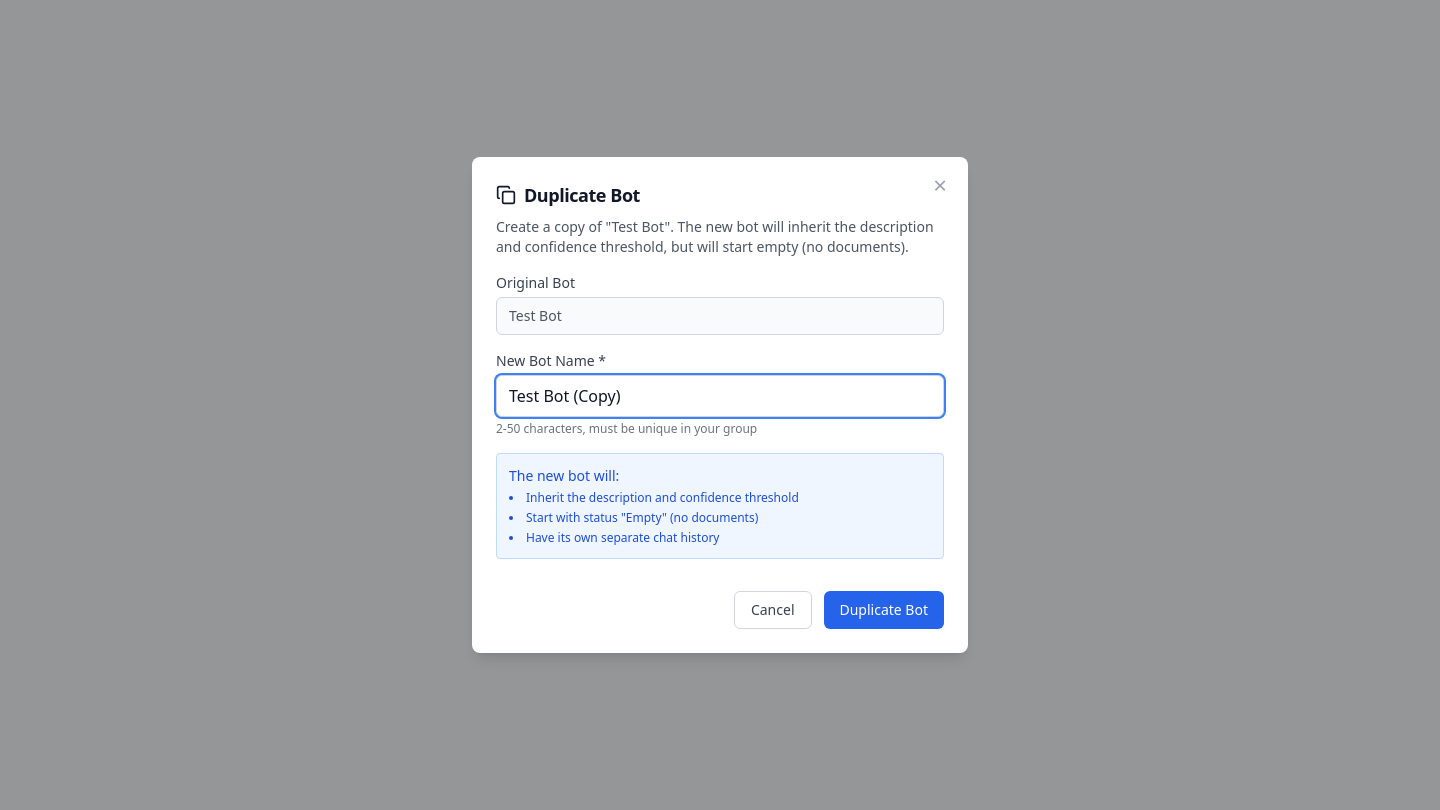
DuplicateBotModal › shows error message when duplication fails
Click the button "Duplicate Bot". click: (884, 610)
box: [824,591,944,629]
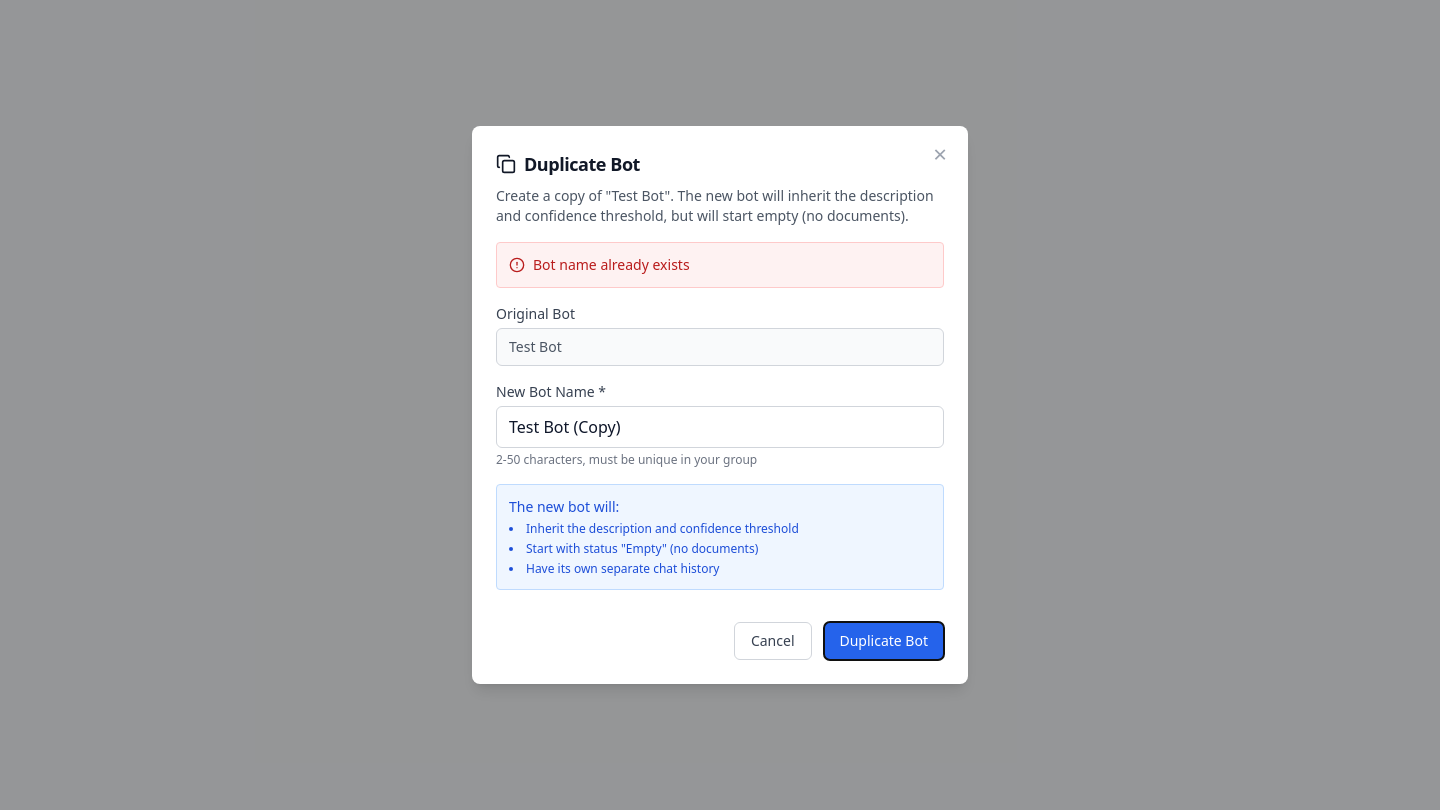
Expected: the text "Bot name already exists" is shown, [533,255,690,275]
